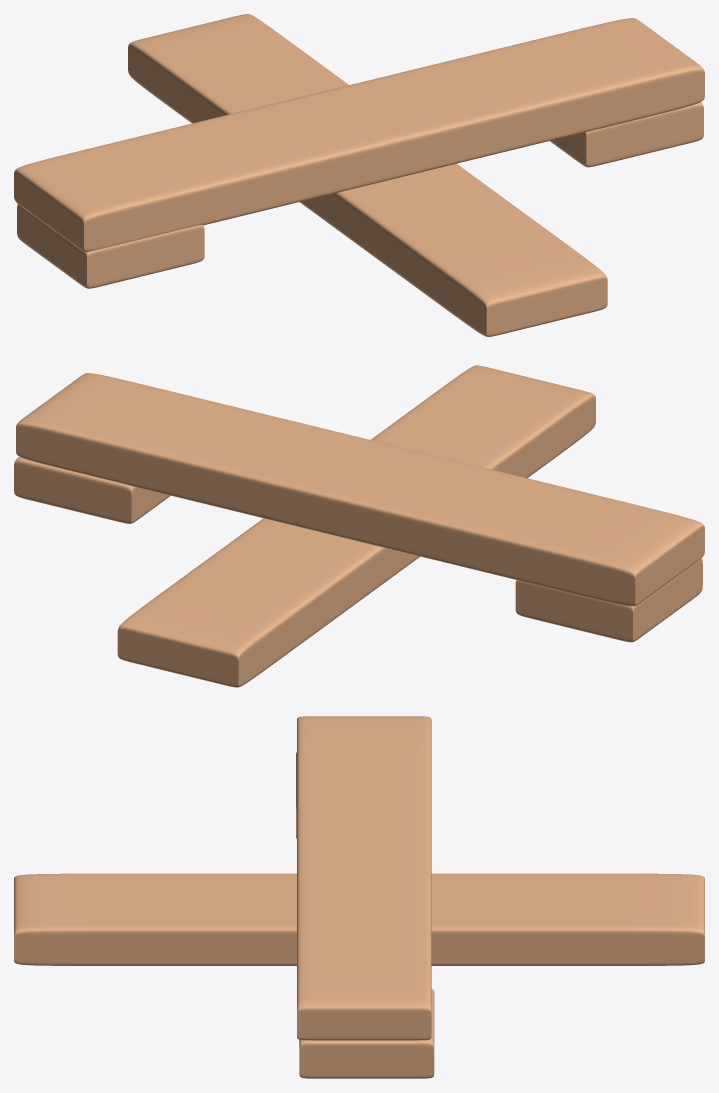
The model's file is stand.glb.
3 views of the same model, one above another, from view 1: azimuth 30°, elevation 25°; view 2: azimuth 150°, elevation 25°; view 3: azimuth 270°, elevation 25° (orthographic). The views are drawn at different scales.
Visible parts, largest first — view 1: Cube.005, Cube.006, Cube.001, Cube.002; view 2: Cube.005, Cube.006, Cube.001, Cube.002; view 3: Cube.006, Cube.005, Cube.002.
Boxes of the visible parts, left/top/right/bottom form: Cube.005: left=14, top=18, right=704, bottom=251; Cube.006: left=128, top=14, right=607, bottom=336; Cube.001: left=17, top=204, right=204, bottom=288; Cube.002: left=550, top=102, right=703, bottom=167; Cube.005: left=16, top=373, right=704, bottom=606; Cube.006: left=117, top=365, right=595, bottom=687; Cube.001: left=515, top=558, right=702, bottom=642; Cube.002: left=14, top=456, right=170, bottom=523; Cube.006: left=14, top=873, right=704, bottom=965; Cube.005: left=297, top=716, right=431, bottom=1040; Cube.002: left=299, top=989, right=434, bottom=1078.
Size of the model in its own units: 3.5 by 0.4346 by 3.49.
